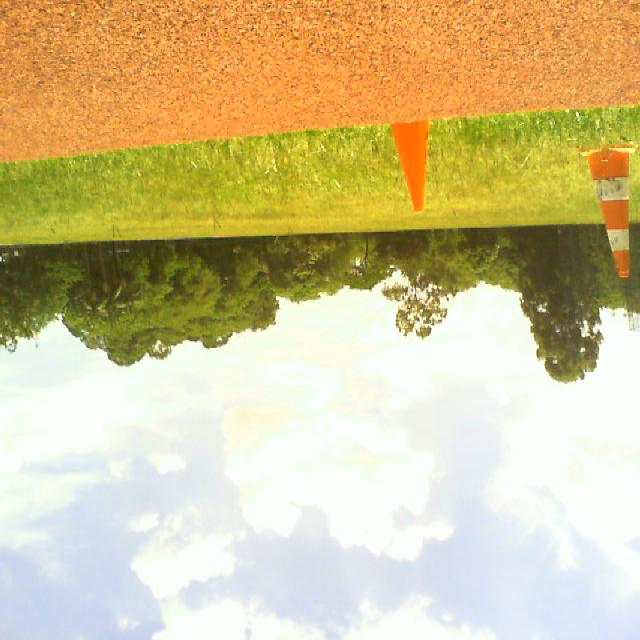cone: (580, 140, 639, 276), (392, 119, 429, 212)
